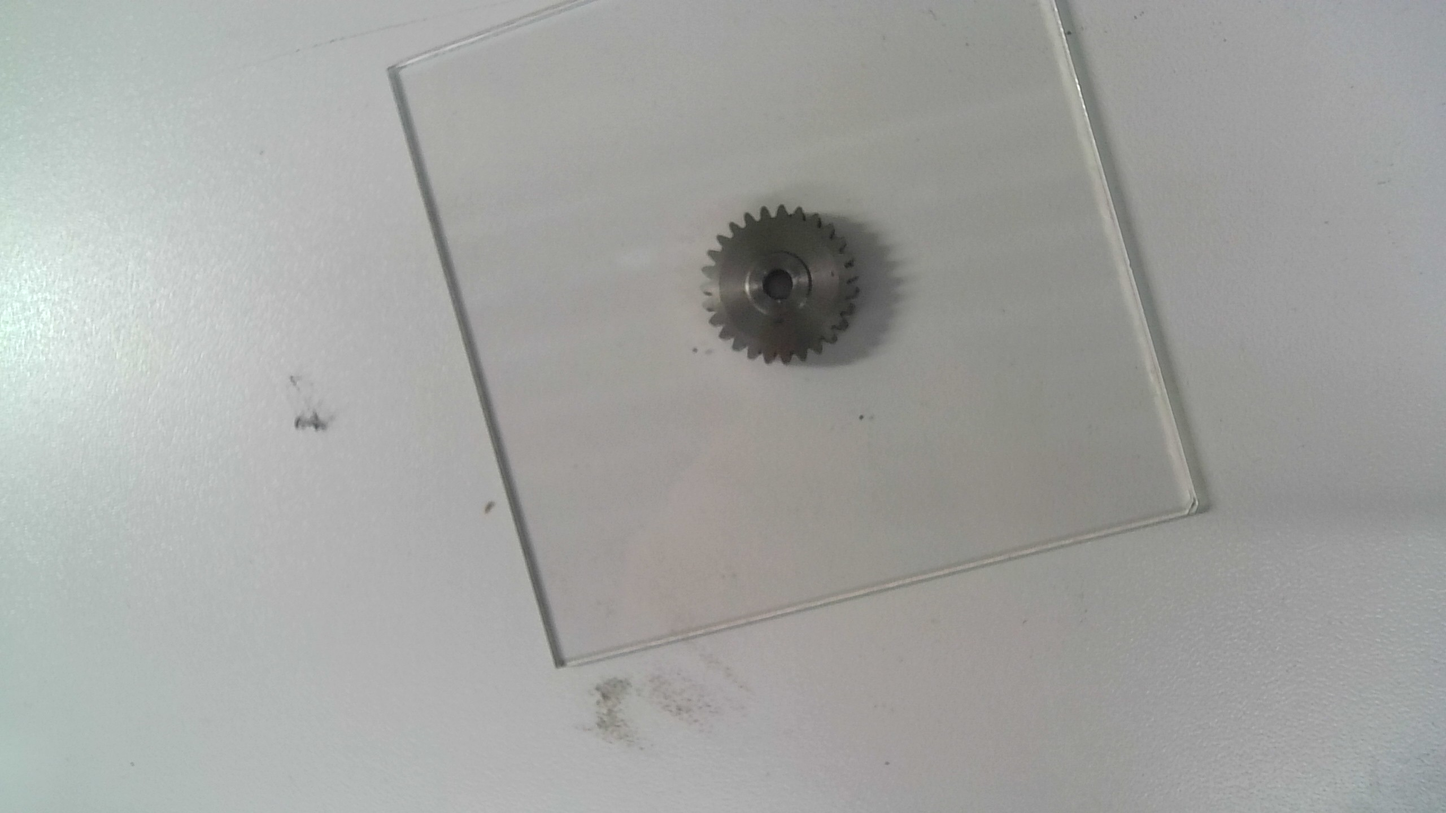gear: (700, 202, 860, 372)
